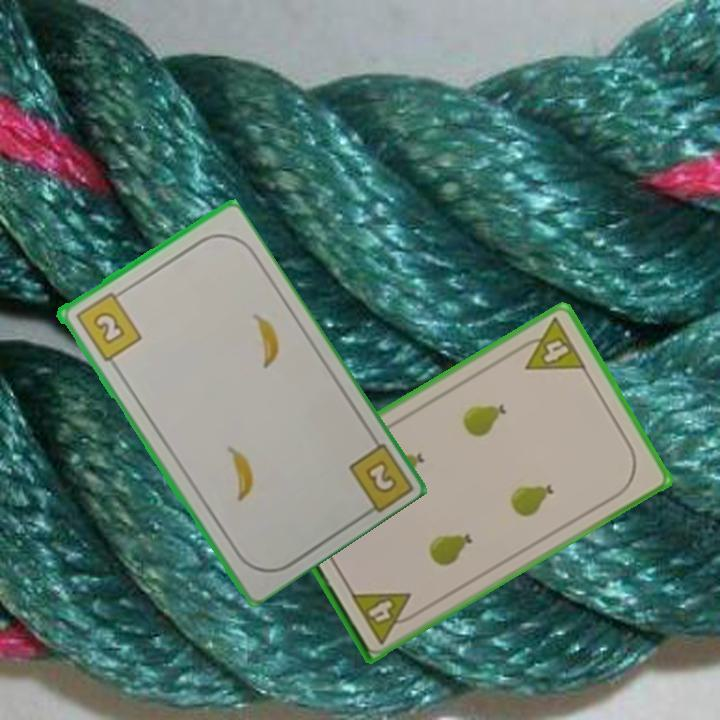2b: (71, 286, 144, 364), (361, 456, 400, 497)
4p: (511, 314, 589, 373), (347, 587, 423, 647)
